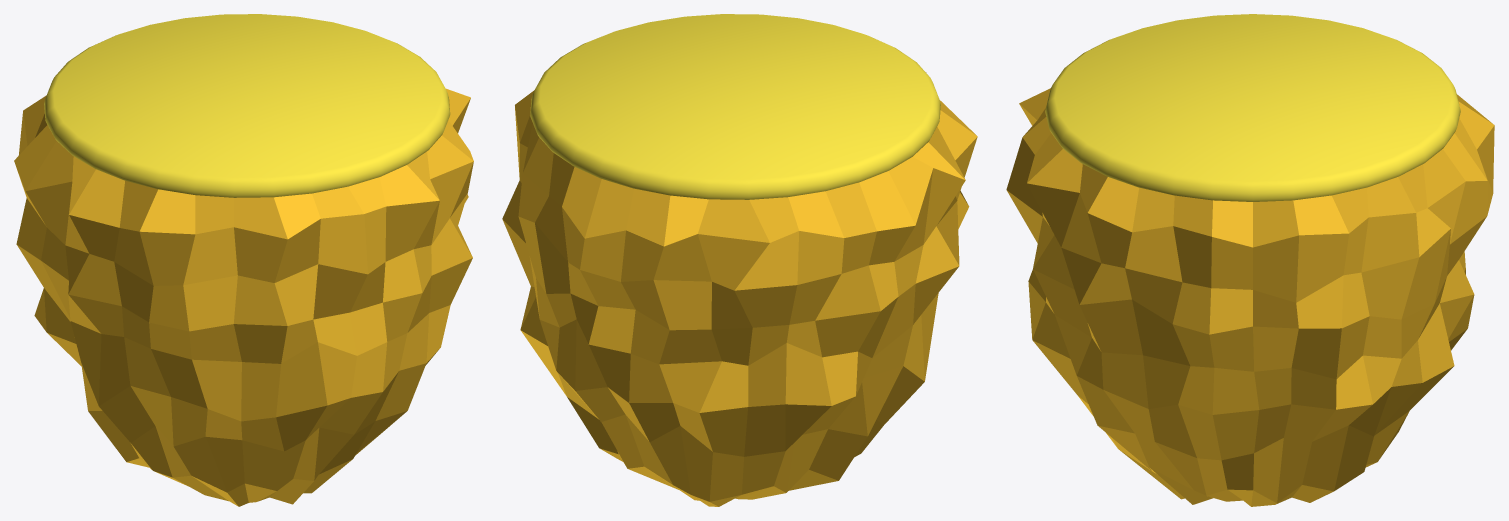
Rendered from island10.fbx.
3 renders of one model, left to right at view 1: azimuth 30°, elevation 25°; view 2: azimuth 150°, elevation 25°; view 3: azimuth 270°, elevation 25°, orthographic. The views are drawn at different scales.
Visible parts, largest first — view 1: island(10); view 2: island(10); view 3: island(10).
Part boxes in pixels (bbox=[...]): island(10): bbox=[14, 14, 473, 506]; island(10): bbox=[502, 14, 977, 506]; island(10): bbox=[1006, 14, 1494, 506].
Size of the model in its own units: 35.51 by 31.92 by 36.15.
Materials: 1 (1 with a texture image).
